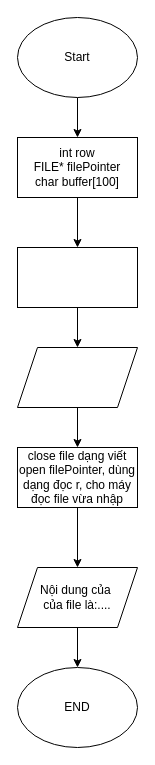
This 155x765 diagram has some shape labels left out. Here are the shapes that lost their labels. From the top down, the centre of each, then its label:
At [77,277]: "open filePointer, dùng để ghi nội dung scanf nội dung".
At [77,377]: "So dong cua file la".
